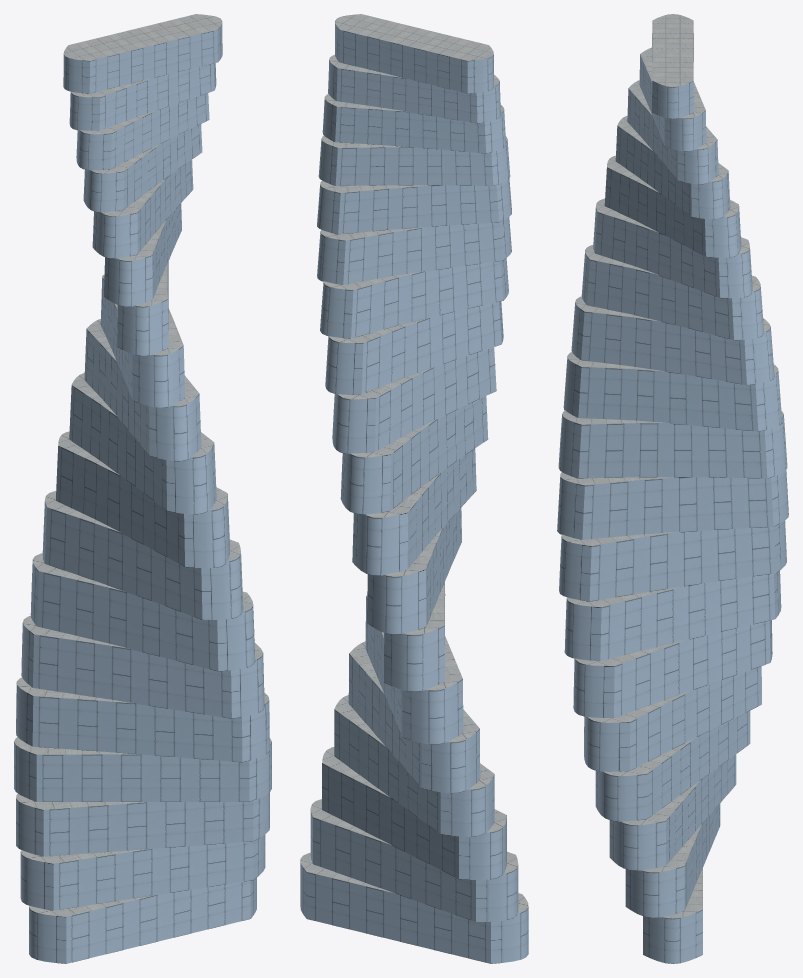
Rendered from CityDeco01.fbx.
3 views of the same model, side by side, from view 1: azimuth 30°, elevation 25°; view 2: azimuth 150°, elevation 25°; view 3: azimuth 270°, elevation 25° (orthographic). The views are drawn at different scales.
Parts seen in each view (by area): view 1: CityDeco01; view 2: CityDeco01; view 3: CityDeco01.
Part boxes in pixels (bbox=[...]): CityDeco01: bbox=[14, 14, 271, 963]; CityDeco01: bbox=[300, 14, 528, 963]; CityDeco01: bbox=[557, 14, 788, 963].
Size of the model in its own units: 24.81 by 94.76 by 23.12.
2 materials, 2 textured.
